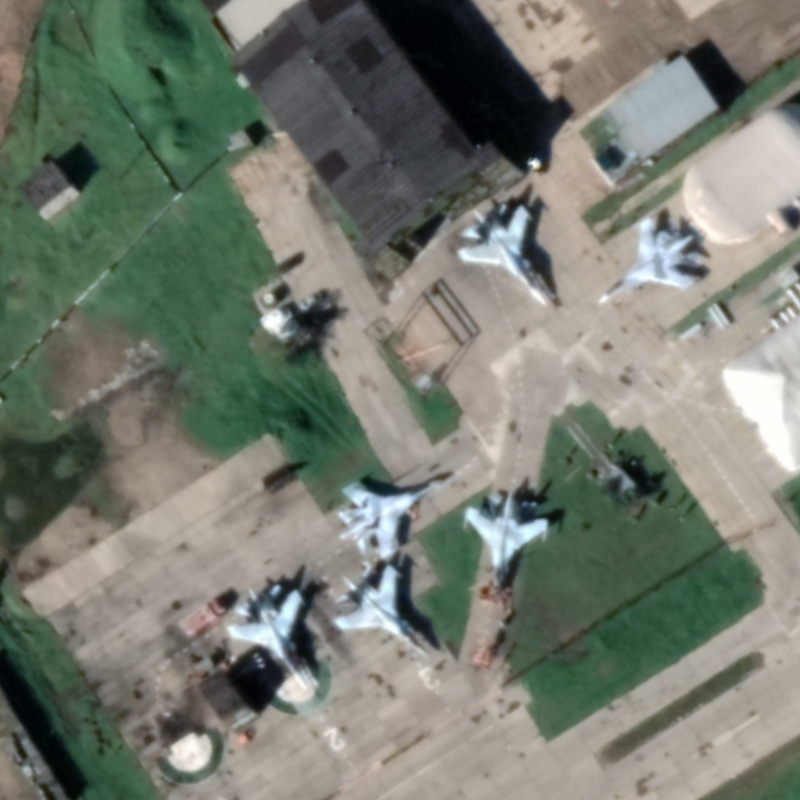A1: (334, 468, 458, 561), (453, 200, 557, 310), (328, 561, 432, 660), (225, 582, 315, 695), (595, 216, 706, 306), (459, 488, 550, 592)
